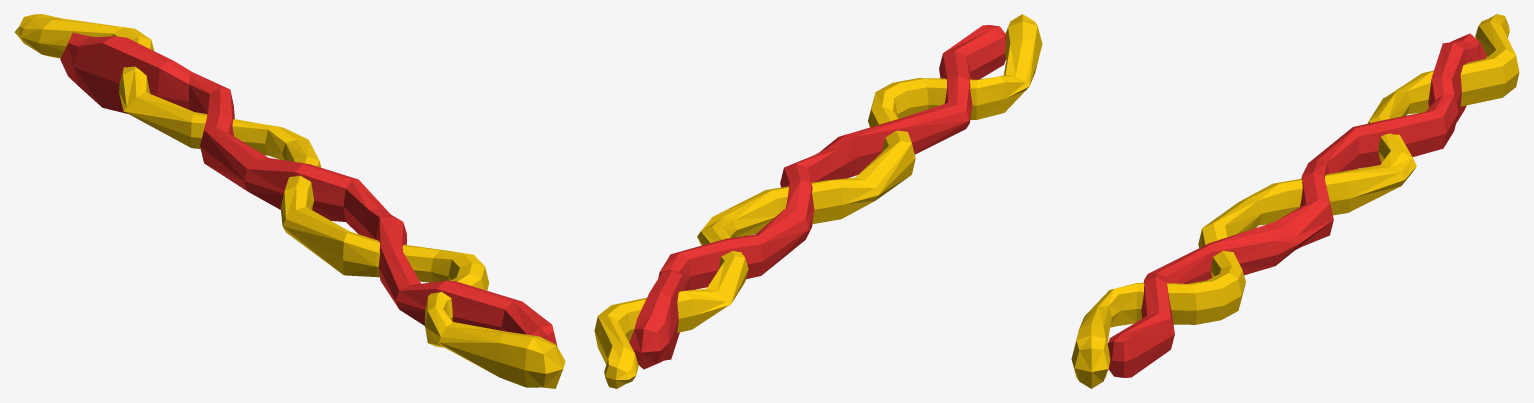
Rendered from KetchupMustard.obj.
3 views of the same model, side by side, from view 1: azimuth 30°, elevation 25°; view 2: azimuth 150°, elevation 25°; view 3: azimuth 330°, elevation 25° (orthographic). The views are drawn at different scales.
Visible parts, largest first — view 1: KetchupMustard_Red, KetchupMustard_Cheese; view 2: KetchupMustard_Cheese, KetchupMustard_Red; view 3: KetchupMustard_Cheese, KetchupMustard_Red.
Boxes of the visible parts, bbox=[...] form: KetchupMustard_Red: bbox=[60, 32, 557, 346]; KetchupMustard_Cheese: bbox=[14, 14, 565, 388]; KetchupMustard_Cheese: bbox=[594, 14, 1042, 388]; KetchupMustard_Red: bbox=[629, 25, 1006, 369]; KetchupMustard_Cheese: bbox=[1071, 14, 1519, 388]; KetchupMustard_Red: bbox=[1107, 33, 1486, 377].
Size of the model in its own units: 0.1628 by 0.1058 by 1.28.
